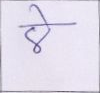e_matra: (30, 4, 50, 23)
